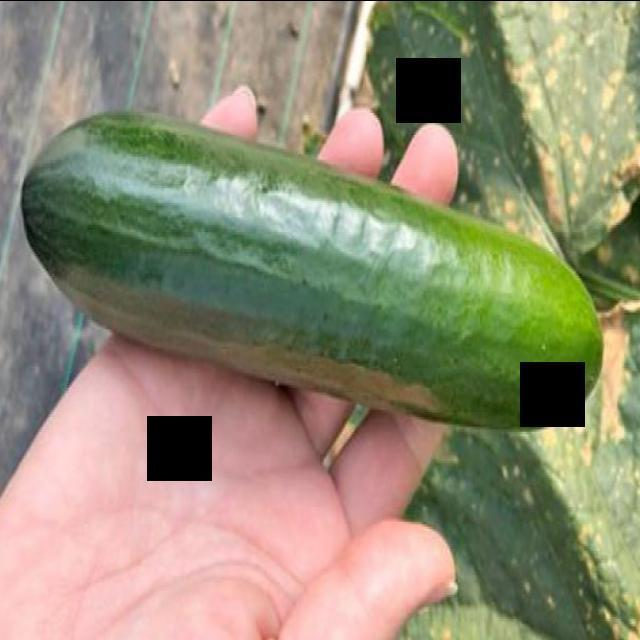cucumber: (18, 102, 607, 436)
